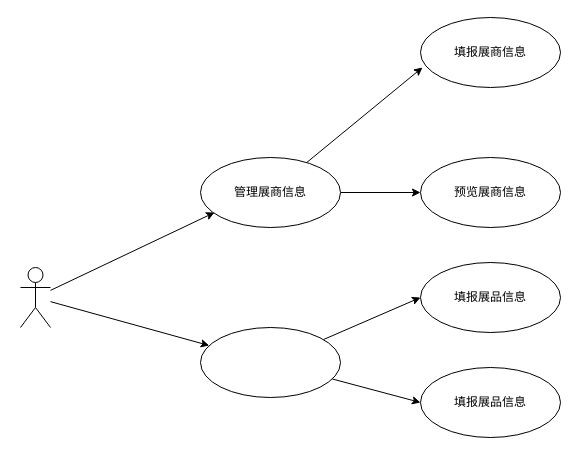
The diagram is 578 pixels wide and 455 high, and some of its shapes have lost their labels. Here are the shapes that lost their labels. From the top down, the centre of each, then its label:
At point (35, 297): "参展商".
At point (270, 362): "管理展品信息".
